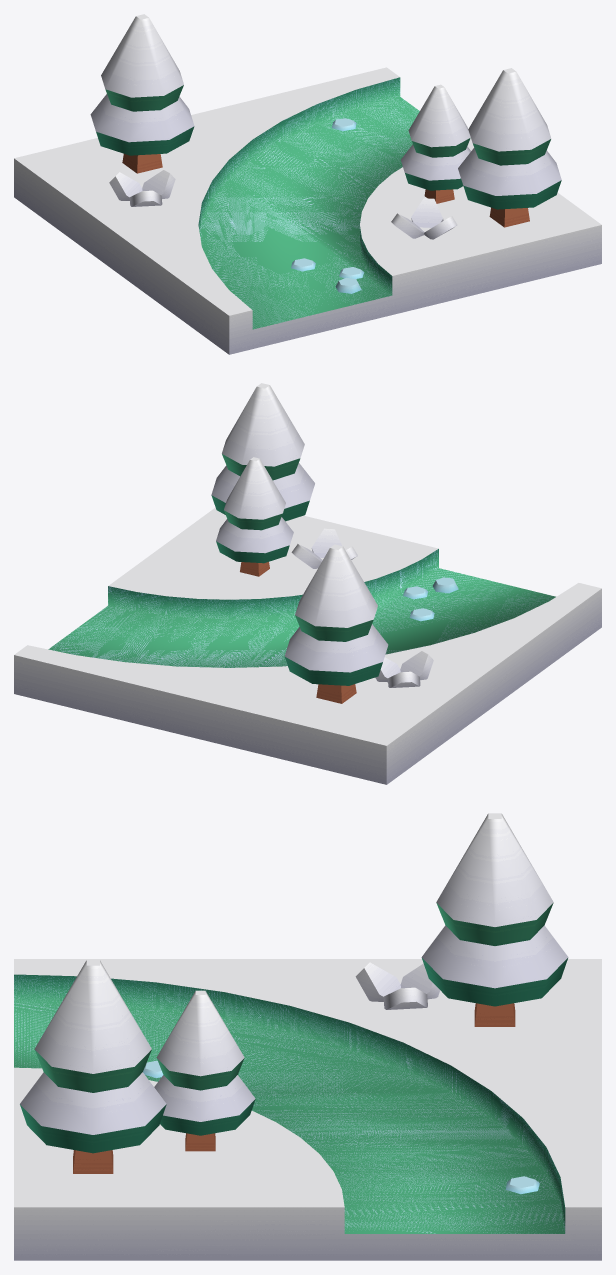
File: tower-defense-kit--snow-tile-corner-large.glb
3 views of the same model, one above another, from view 1: azimuth 30°, elevation 25°; view 2: azimuth 150°, elevation 25°; view 3: azimuth 270°, elevation 25° (orthographic). The views are drawn at different scales.
Parts seen in each view (by area): view 1: snow-tile-corner-large; view 2: snow-tile-corner-large; view 3: snow-tile-corner-large.
Boxes of the visible parts, left/top/right/bottom form: snow-tile-corner-large: left=14, top=14, right=601, bottom=354; snow-tile-corner-large: left=14, top=383, right=601, bottom=784; snow-tile-corner-large: left=14, top=813, right=601, bottom=1260.
Size of the model in its own units: 2 by 0.96 by 2.
1 material, 1 textured.
